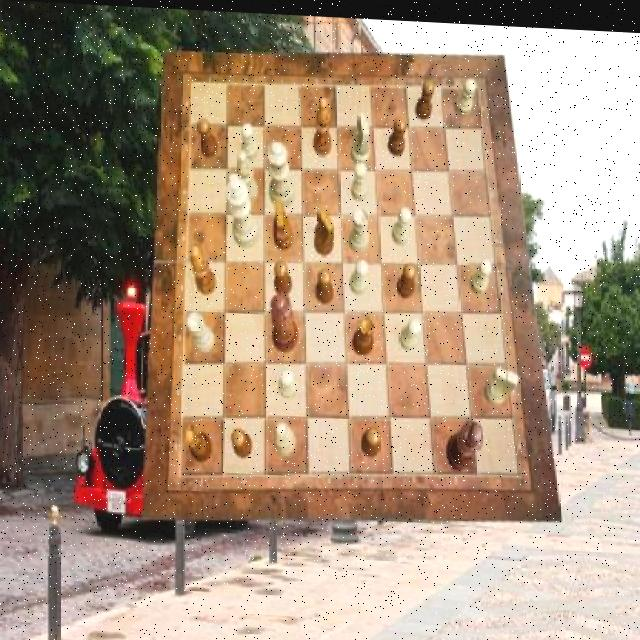bishop: (192, 243, 217, 293), (313, 94, 332, 154)
black-bishop: (448, 415, 484, 469)
black-king: (274, 196, 294, 247), (314, 205, 334, 253)
black-knight: (197, 116, 218, 155), (416, 75, 434, 116), (397, 258, 417, 294), (388, 113, 405, 152), (362, 422, 382, 454), (315, 265, 333, 300), (274, 259, 291, 294), (232, 427, 252, 455)
black-pawn: (271, 288, 298, 350)
black-queen: (185, 423, 212, 461), (352, 311, 376, 352)
black-rook: (237, 147, 258, 202), (274, 419, 296, 454)
white-bishop: (226, 171, 260, 246)
white-king: (485, 362, 520, 401), (351, 110, 371, 163)
white-knight: (455, 72, 478, 112), (469, 253, 492, 290), (398, 313, 421, 348), (392, 202, 412, 241), (352, 158, 370, 197), (351, 256, 368, 293), (242, 121, 258, 159), (278, 365, 298, 395)
white-pawn: (268, 139, 295, 206)
white-queen: (188, 311, 215, 352), (349, 203, 369, 250)
